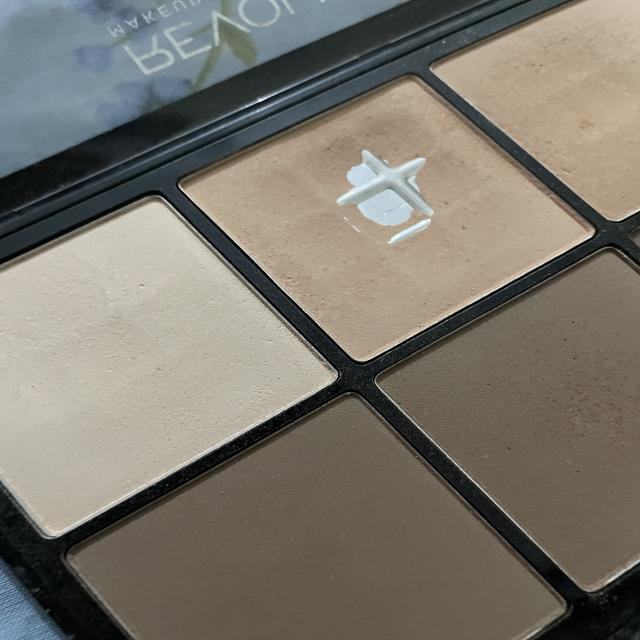bronzer: (169, 59, 606, 378), (55, 385, 593, 640), (0, 189, 369, 542), (369, 236, 640, 600), (428, 1, 640, 235)
